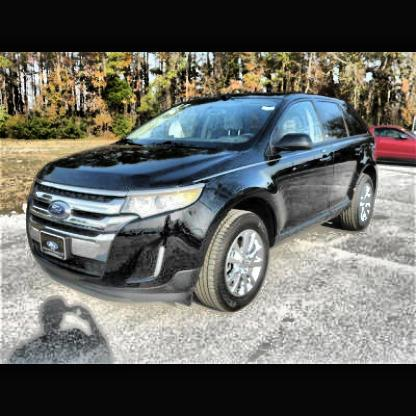Ford Edge SUV 2012: (25, 93, 381, 313)
